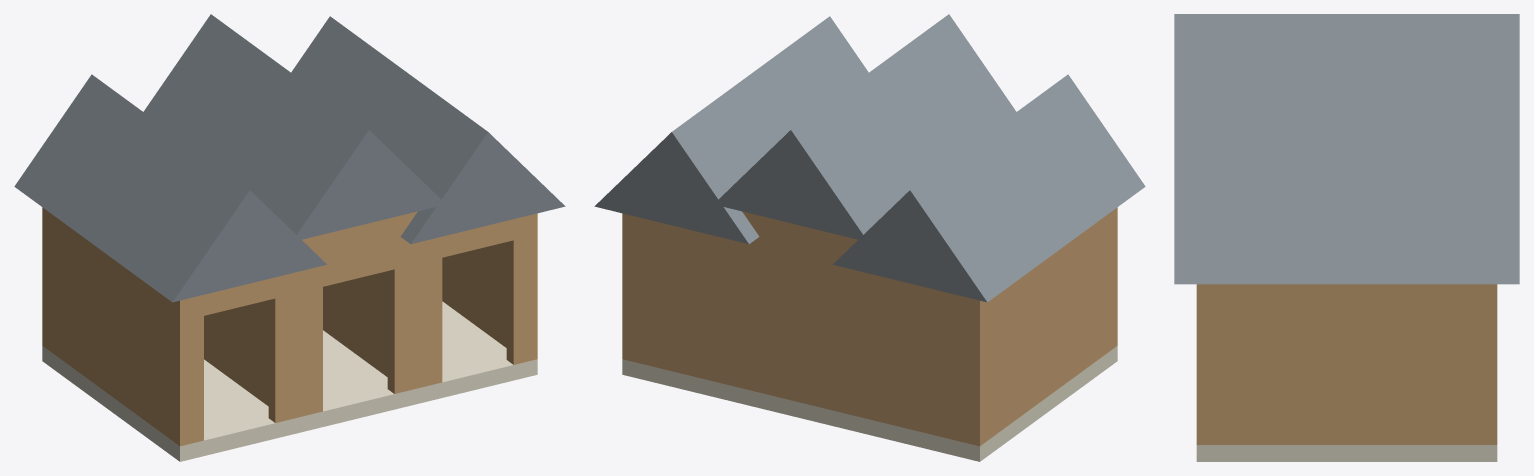
File: housing-row.glb
The picture shows the model from 3 angles, left to right: view 1: azimuth 30°, elevation 25°; view 2: azimuth 150°, elevation 25°; view 3: azimuth 270°, elevation 25°; orthographic projection. The views are drawn at different scales.
Parts seen in each view (by area): view 1: housing-row; view 2: housing-row; view 3: housing-row.
Boxes of the visible parts, x1,y1,x2,y2 form: housing-row: (14,14,565,461); housing-row: (594,14,1145,461); housing-row: (1174,14,1519,461).
Size of the model in its own units: 6.6 by 4.75 by 4.6.
